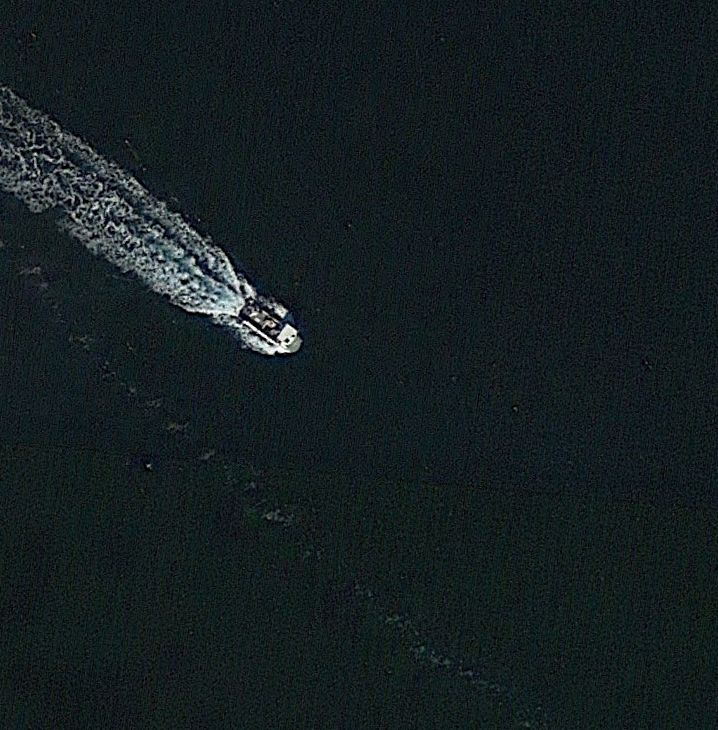boat: (231, 291, 305, 358)
